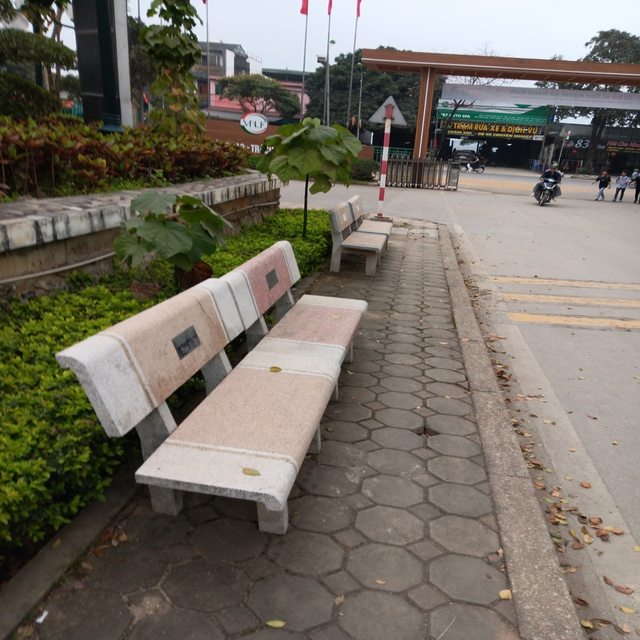gheda: (45, 278, 348, 539), (216, 242, 371, 381), (298, 204, 397, 287), (343, 190, 407, 260)
